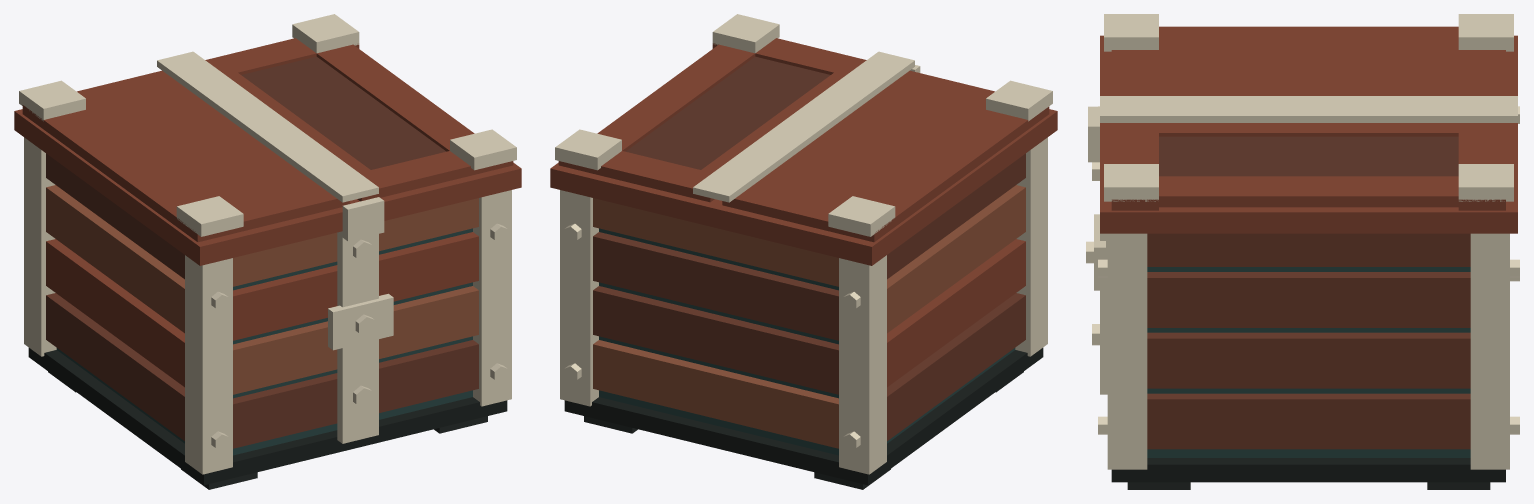
The model's file is scrap_crate.glb.
3 renders of one model, left to right at view 1: azimuth 30°, elevation 25°; view 2: azimuth 150°, elevation 25°; view 3: azimuth 270°, elevation 25°, orthographic. The views are drawn at different scales.
Visible parts, largest first — view 1: slats, metal, core, feet; view 2: slats, metal, core, feet; view 3: slats, metal, core, feet.
Part boxes in pixels (box(x1,y1,x2,y2)): slats: box(14, 38, 521, 448); metal: box(19, 14, 516, 474); core: box(28, 228, 507, 485); feet: box(48, 371, 487, 489); slats: box(550, 38, 1057, 448); metal: box(555, 14, 1052, 474); core: box(564, 228, 1043, 485); feet: box(584, 371, 1023, 489); slats: box(1100, 26, 1517, 449); metal: box(1086, 14, 1519, 469); core: box(1111, 267, 1505, 482); feet: box(1127, 482, 1490, 489).
Bounding box in the file's own units: 1.06 × 0.875 × 1.1.
